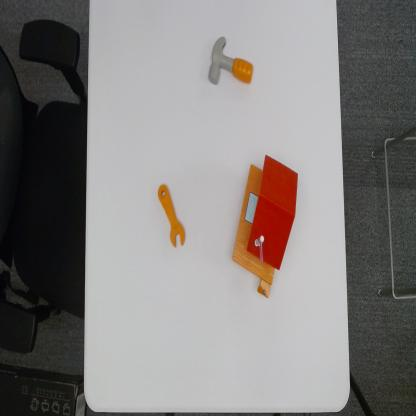Hammer: (207, 35, 254, 86)
House: (230, 151, 299, 300)
Screwdriver: (157, 182, 187, 250)
